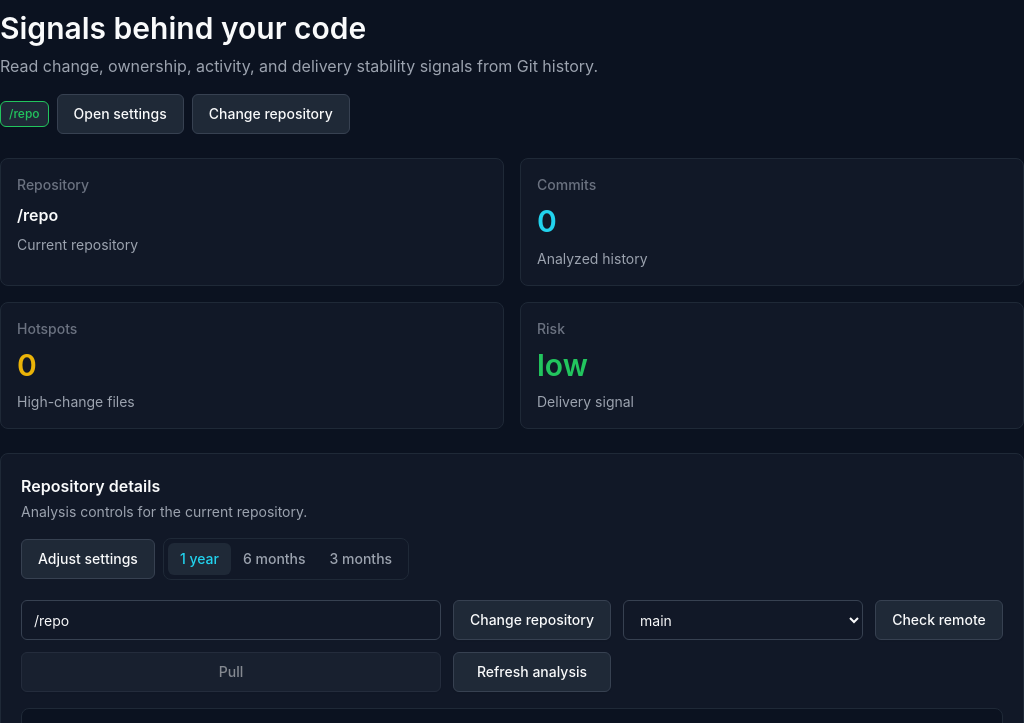
Test: OverviewPage branch controls › checks remote status without pulling changes
The image size is (1024, 723).
Click the button "Check remote" at (939, 620), box x1=875 y1=600 x2=1003 y2=640
(page scrolled)
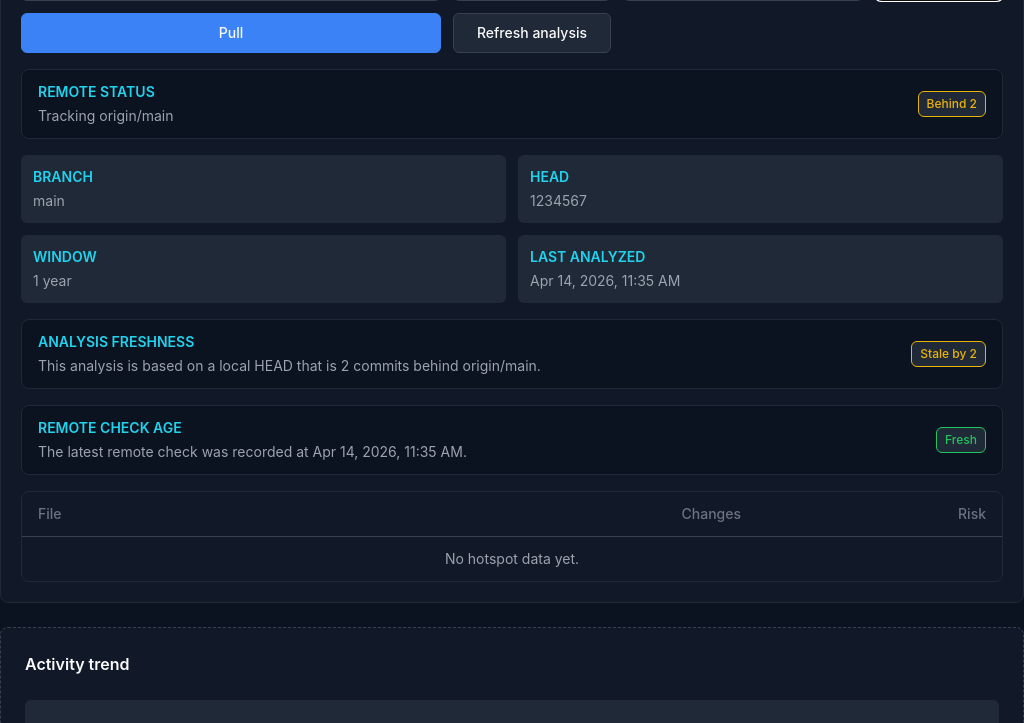
Result: the text "Behind 2" is shown at x1=918 y1=91 x2=986 y2=117
Result: the text "Tracking origin/main" is shown at x1=38 y1=106 x2=174 y2=126
Result: the text "Stale by 2" is shown at x1=911 y1=341 x2=986 y2=367
